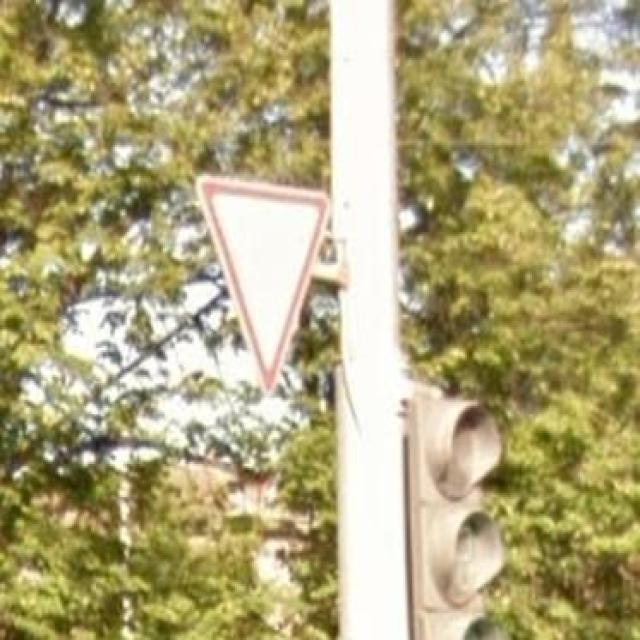give_way: (188, 170, 339, 400)
